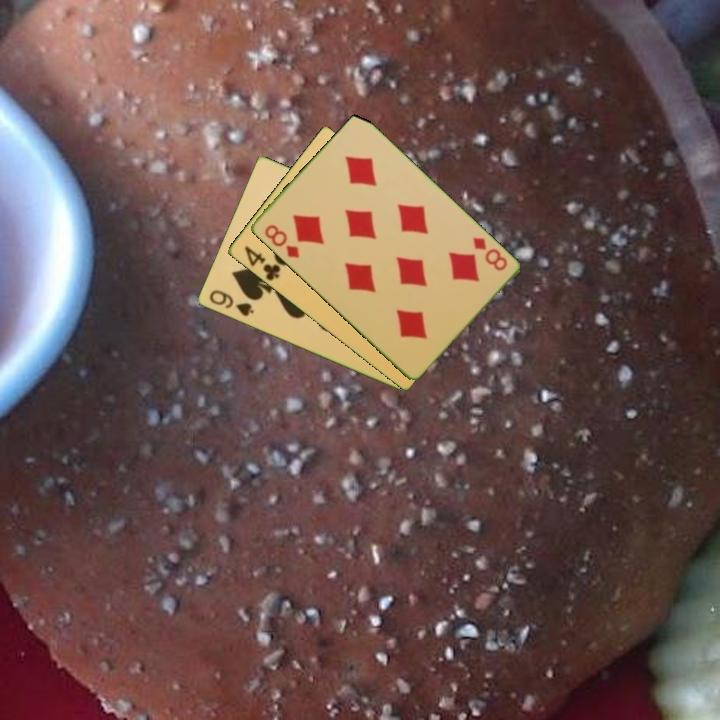4c: (240, 242, 283, 284)
8d: (469, 233, 510, 274), (260, 221, 302, 261)
9s: (205, 286, 256, 319)
